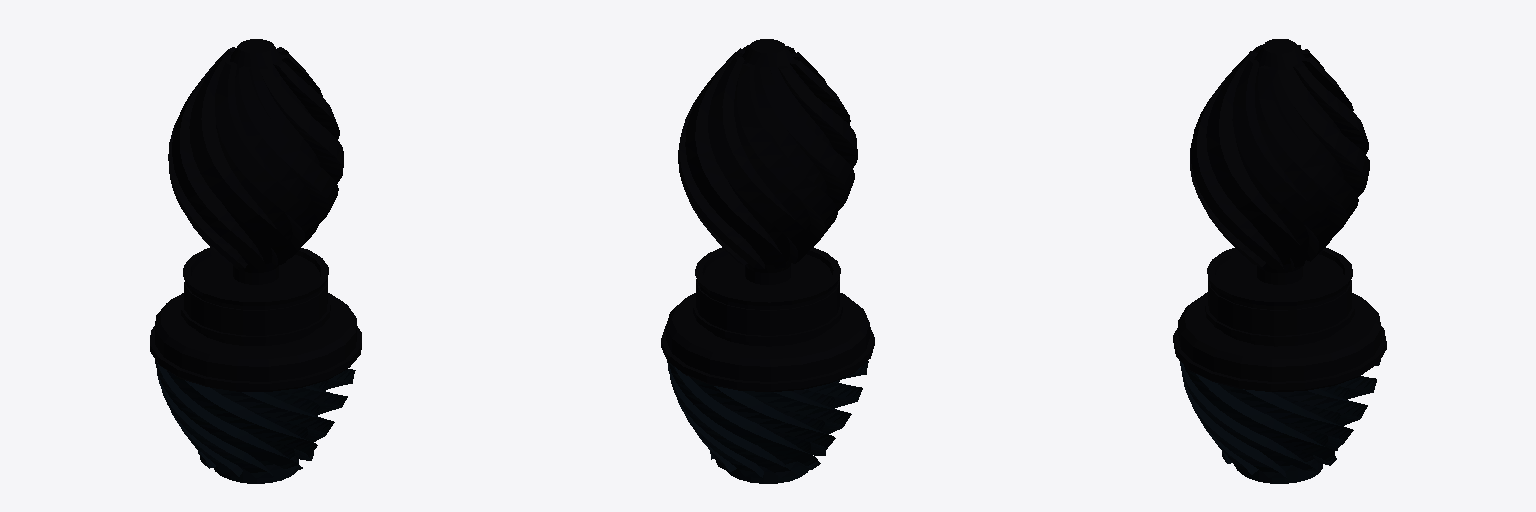
The model's file is Spiral_Texture_Set.obj.
3 renders of one model, left to right at view 1: azimuth 30°, elevation 25°; view 2: azimuth 150°, elevation 25°; view 3: azimuth 270°, elevation 25°, orthographic.
Visible parts, largest first — view 1: default; view 2: default; view 3: default.
Boxes of the visible parts, x1,y1,x2,y2 form: default: [150, 39, 361, 483]; default: [661, 39, 874, 483]; default: [1173, 39, 1386, 483].
Bounding box in the file's own units: 1.63 × 3.53 × 1.63.